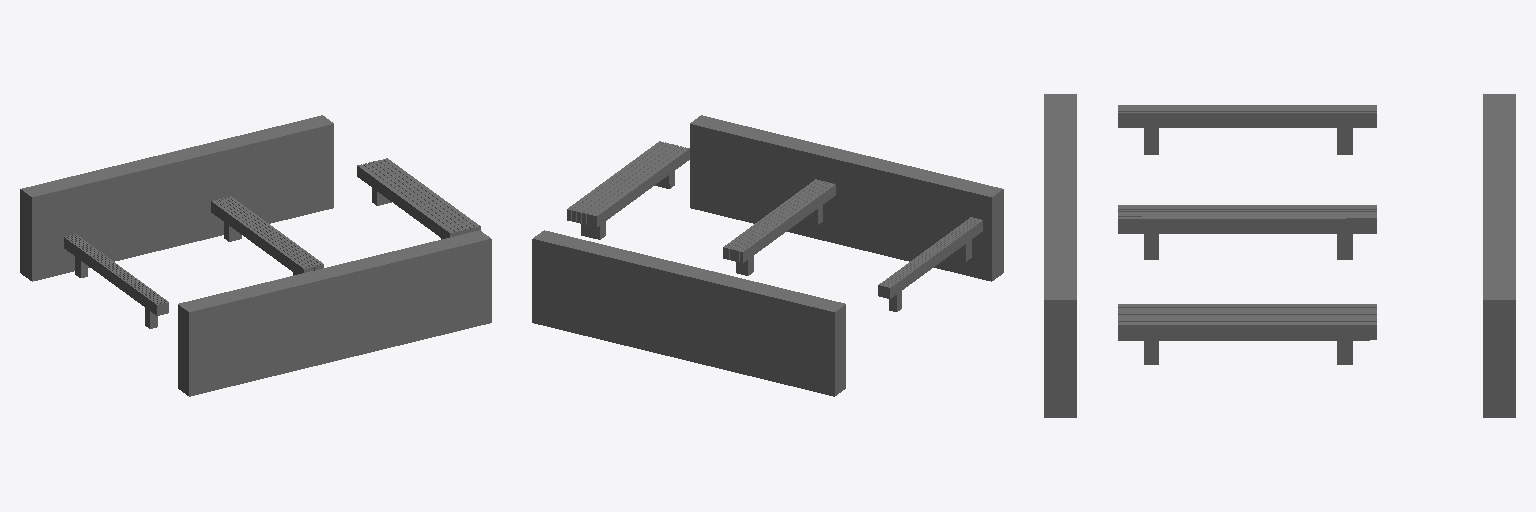
robot.urdf — stairs_terrain:
<?xml version="1.0" ?>
<robot name="stairs_terrain">
  <link name="stairs_terrain">
	  <contact>
      <lateral_friction value="1.0"/>
    </contact>
    <inertial>
      <origin rpy="0 0 0" xyz="0 0 0"/>
       <mass value=".0"/>
       <inertia ixx="0" ixy="0" ixz="0" iyy="0" iyz="0" izz="0"/>
    </inertial>
    <visual>
      <origin rpy="1.57 0 -1.57" xyz="0 0.4 0 "/>
      <geometry>
				<mesh filename="meshes/bench.obj" scale="0.2 0.2 0.06"/>
      </geometry>
       <material name="white">
        <color rgba="0.5 0.5 0.5 1.0"/>
      </material>
    </visual>
    <collision>
      <origin rpy="1.57 0 -1.57" xyz="0 0.4 0 "/>
      <geometry>
				<mesh filename="meshes/bench.obj" scale="0.2 0.2 0.06"/>
      </geometry>
    </collision>

    <visual>
      <origin rpy="1.57 0 -1.57" xyz="1.5 0.4 0 "/>
      <geometry>
				<mesh filename="meshes/bench.obj" scale="0.2 0.2 0.1"/>
      </geometry>
       <material name="white">
        <color rgba="0.5 0.5 0.5 1.0"/>
      </material>
    </visual>
    <collision>
      <origin rpy="1.57 0 -1.57" xyz="1.5 0.4 0 "/>
      <geometry>
				<mesh filename="meshes/bench.obj" scale="0.2 0.2 0.1"/>
      </geometry>
    </collision>
    <visual>
      <origin rpy="1.57 0 -1.57" xyz="3 0.4 0 "/>
      <geometry>
				<mesh filename="meshes/bench.obj" scale="0.2 0.2 0.15"/>
      </geometry>
       <material name="white">
        <color rgba="0.5 0.5 0.5 1.0"/>
      </material>
    </visual>
    <collision>
      <origin rpy="1.57 0 -1.57" xyz="3 0.4 0 "/>
      <geometry>
				<mesh filename="meshes/bench.obj" scale="0.2 0.2 0.15"/>
      </geometry>
    </collision>

    <visual>
      <origin rpy="0 0 0" xyz="1.5 -1.35 0 "/>
      <geometry>
        <box size="3 0.2 0.8"/>
      </geometry>
       <material name="white">
        <color rgba="0.5 0.5 0.5 1.0"/>
      </material>
    </visual>
    <collision>
      <origin rpy="0 0 0" xyz="1.5 -1.35 0 "/>
      <geometry>
        <box size="3 0.2 0.8"/>
      </geometry>
    </collision>

    <visual>
      <origin rpy="0 0 0" xyz="1.5 1.35 0 "/>
      <geometry>
        <box size="3 0.2 0.8"/>
      </geometry>
       <material name="white">
        <color rgba="0.5 0.5 0.5 1.0"/>
      </material>
    </visual>
    <collision>
      <origin rpy="0 0 0" xyz="1.5 1.35 0 "/>
      <geometry>
        <box size="3 0.2 0.8"/>
      </geometry>
    </collision>
  </link>
</robot>

--- Render facts (derived) ---
Views: 3 orthographic renders of the robot side by side, from view 1: azimuth 30°, elevation 25°; view 2: azimuth 150°, elevation 25°; view 3: azimuth 270°, elevation 25°.
Model stairs_terrain with 1 links and 0 joints (none), rooted at stairs_terrain, posed every joint at zero.
Visible links, largest first — view 1: stairs_terrain; view 2: stairs_terrain; view 3: stairs_terrain.
Link boxes in pixels (box(x1,y1,x2,y2)): stairs_terrain: box(20, 115, 491, 396); stairs_terrain: box(532, 115, 1003, 396); stairs_terrain: box(1044, 94, 1515, 417).
Bounding box of the posed robot: 3.21 × 2.9 × 0.8 m (x, y, z).
Meshes: 1 distinct files referenced, 3 mesh visuals loaded (1 OBJ).